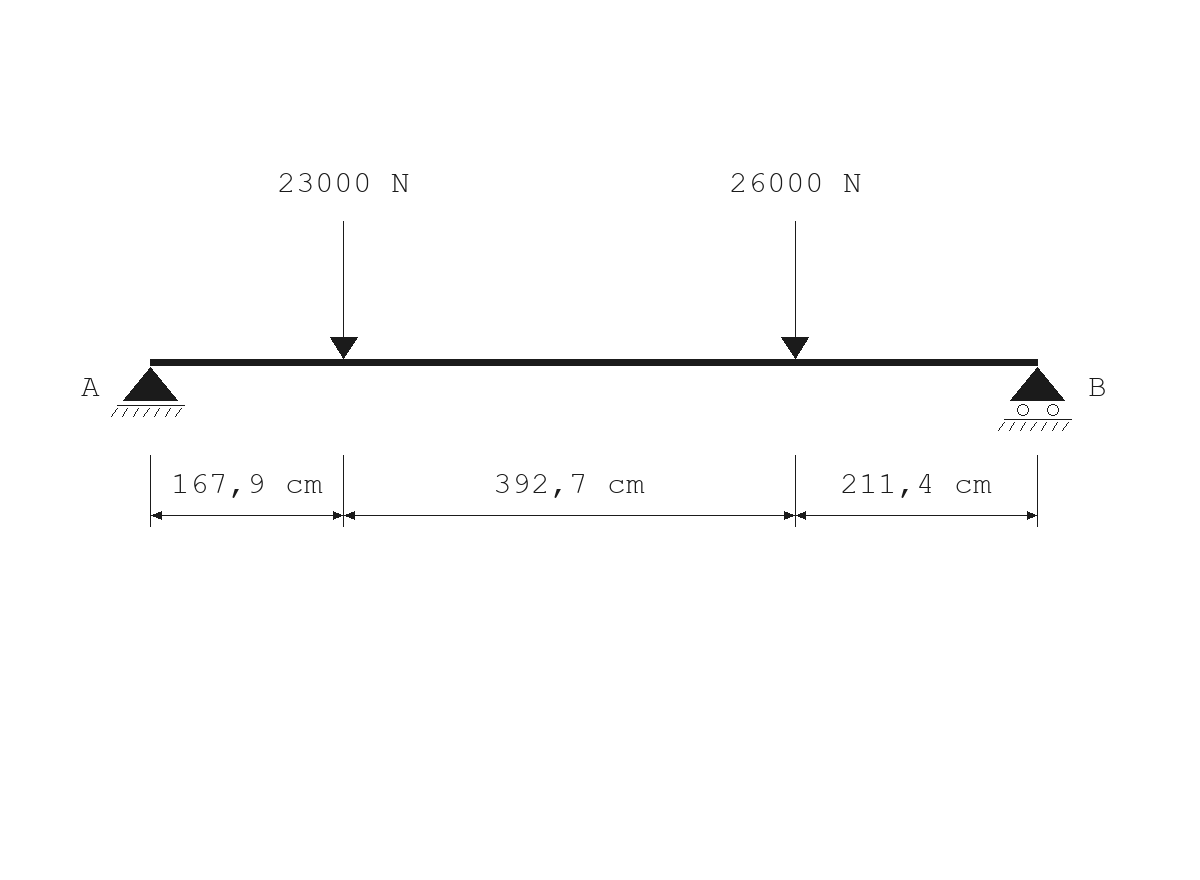pin_support: (111, 367, 185, 417)
point_load: (330, 221, 358, 359), (781, 221, 809, 359)
roller_support: (998, 367, 1072, 431)
